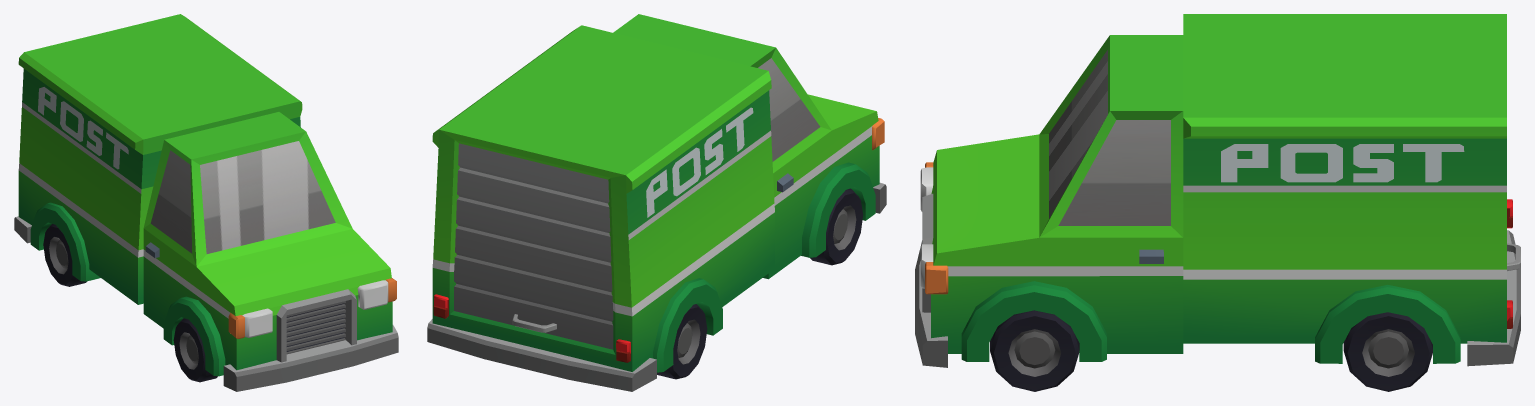
The model's file is PostCar_2.fbx.
The picture shows the model from 3 angles, left to right: view 1: azimuth 30°, elevation 25°; view 2: azimuth 150°, elevation 25°; view 3: azimuth 270°, elevation 25°; orthographic projection. The views are drawn at different scales.
Parts seen in each view (by area): view 1: PostCar_2, Wheel_FR, Wheel_BR; view 2: PostCar_2, Wheel_FR, Wheel_BR; view 3: PostCar_2, Wheel_FL, Wheel_BL.
Part boxes in pixels (left/top/right/bottom): PostCar_2: left=14, top=14, right=398, bottom=391; Wheel_FR: left=173, top=318, right=217, bottom=382; Wheel_BR: left=43, top=224, right=86, bottom=286; PostCar_2: left=427, top=14, right=886, bottom=391; Wheel_FR: left=810, top=188, right=863, bottom=265; Wheel_BR: left=657, top=304, right=707, bottom=379; PostCar_2: left=915, top=14, right=1520, bottom=367; Wheel_FL: left=990, top=310, right=1079, bottom=391; Wheel_BL: left=1343, top=312, right=1432, bottom=391.
Size of the model in its own units: 1.18 by 1.24 by 2.51.
